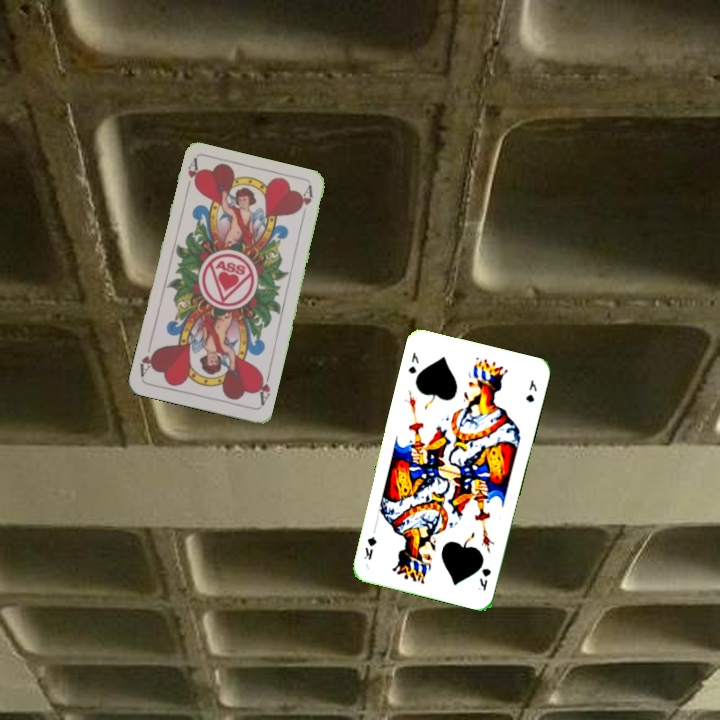GK: (474, 564, 493, 593), (404, 348, 421, 376)
HA: (181, 156, 202, 196), (253, 368, 273, 408)
